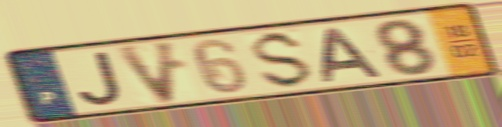6: (189, 37, 251, 97)
8: (373, 17, 442, 78)
A: (321, 25, 387, 85)
J: (76, 49, 126, 108)
S: (250, 28, 317, 91)
V: (111, 37, 182, 107)
